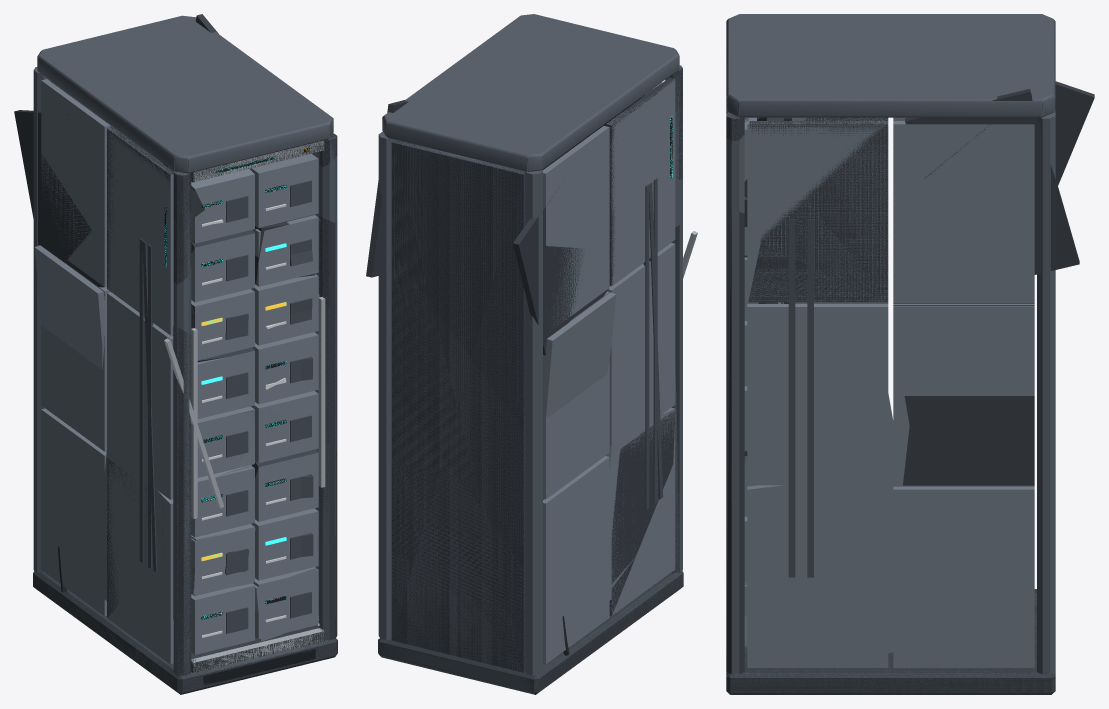
The model's file is hlx_cmp_server_rack_c.glb.
3 views of the same model, side by side, from view 1: azimuth 30°, elevation 25°; view 2: azimuth 150°, elevation 25°; view 3: azimuth 270°, elevation 25° (orthographic). The views are drawn at different scales.
Visible parts, largest first — view 1: mesh_intact, mesh_heavy, mesh_light; view 2: mesh_heavy, mesh_intact, mesh_light; view 3: mesh_intact, mesh_heavy, mesh_light.
Part boxes in pixels (x1=…): mesh_intact: x1=33, y1=17, x2=337, y2=692; mesh_heavy: x1=14, y1=14, x2=337, y2=694; mesh_light: x1=34, y1=56, x2=337, y2=675; mesh_heavy: x1=366, y1=14, x2=697, y2=694; mesh_intact: x1=378, y1=14, x2=683, y2=694; mesh_light: x1=378, y1=54, x2=682, y2=663; mesh_intact: x1=726, y1=14, x2=1055, y2=694; mesh_heavy: x1=726, y1=14, x2=1094, y2=694; mesh_light: x1=726, y1=19, x2=1055, y2=674.
Bounding box in the file's own units: 0.5399 × 1.62 × 0.8957.
